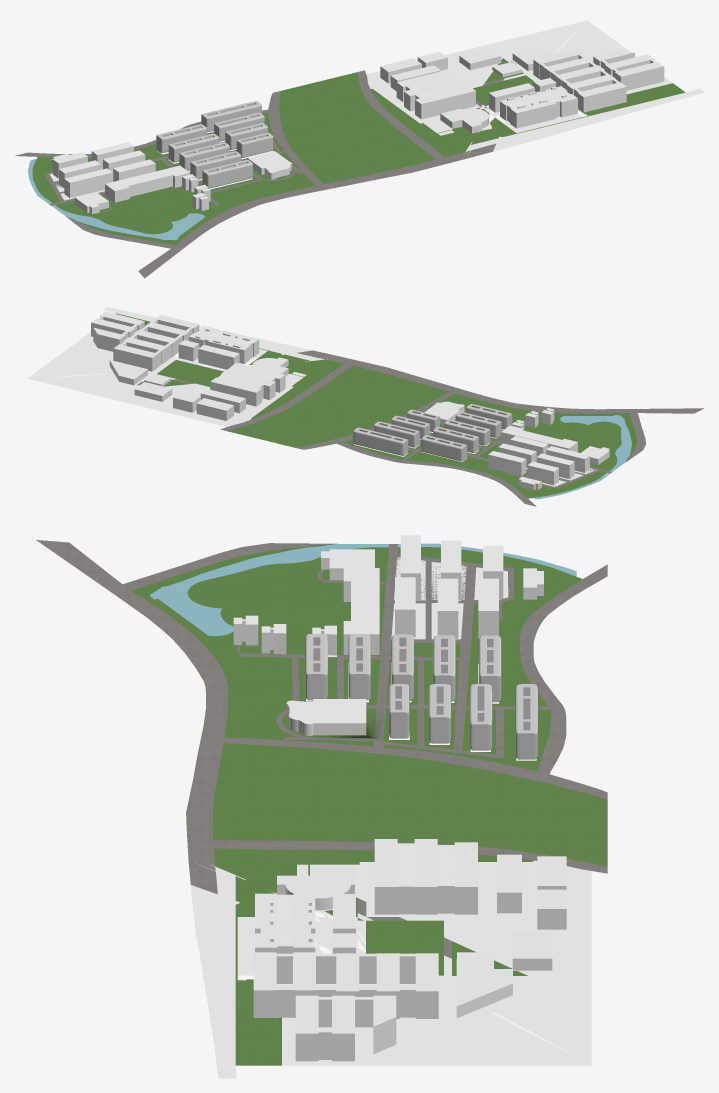
File: school3.glb
The picture shows the model from 3 angles, top to bottom: view 1: azimuth 30°, elevation 25°; view 2: azimuth 150°, elevation 25°; view 3: azimuth 270°, elevation 25°; orthographic projection. The views are drawn at different scales.
Parts seen in each view (by area): view 1: 广工体块ver3, building.004, building.003, building.007, building, building.008, building.005, building.006, building.002, building.001; view 2: 广工体块ver3, building.003, building.007, building.002, building.008, building.005, building.006, building.004, building.001, building; view 3: 广工体块ver3, building.003, building.002, building.004, building.005, building.001, building.007, building.006, building.008, building.
Part boxes in pixels (x1=…): 广工体块ver3: x1=15, y1=17, x2=704, y2=278; building.004: x1=202, y1=160, x2=252, y2=188; building.003: x1=201, y1=101, x2=261, y2=132; building.007: x1=156, y1=124, x2=206, y2=153; building: x1=236, y1=132, x2=273, y2=157; building.008: x1=168, y1=133, x2=219, y2=162; building.005: x1=190, y1=151, x2=241, y2=179; building.006: x1=179, y1=142, x2=229, y2=170; building.002: x1=214, y1=112, x2=264, y2=141; building.001: x1=225, y1=123, x2=267, y2=149; 广工体块ver3: x1=22, y1=307, x2=704, y2=506; building.003: x1=353, y1=427, x2=408, y2=455; building.007: x1=421, y1=435, x2=467, y2=461; building.002: x1=374, y1=421, x2=419, y2=447; building.008: x1=433, y1=427, x2=478, y2=452; building.005: x1=455, y1=411, x2=501, y2=437; building.006: x1=444, y1=419, x2=490, y2=445; building.004: x1=466, y1=404, x2=512, y2=429; building.001: x1=391, y1=415, x2=429, y2=439; building: x1=407, y1=409, x2=439, y2=431; 广工体块ver3: x1=36, y1=535, x2=607, y2=1078; building.003: x1=515, y1=684, x2=537, y2=759; building.002: x1=470, y1=684, x2=492, y2=750; building.004: x1=305, y1=634, x2=327, y2=700; building.005: x1=348, y1=634, x2=370, y2=700; building.001: x1=428, y1=684, x2=451, y2=743; building.007: x1=479, y1=635, x2=501, y2=702; building.006: x1=391, y1=634, x2=413, y2=700; building.008: x1=433, y1=635, x2=455, y2=701; building: x1=389, y1=684, x2=409, y2=738.
Bounding box in the file's own units: 11.69 × 0.3082 × 5.94.
20 materials, 5 textured.
